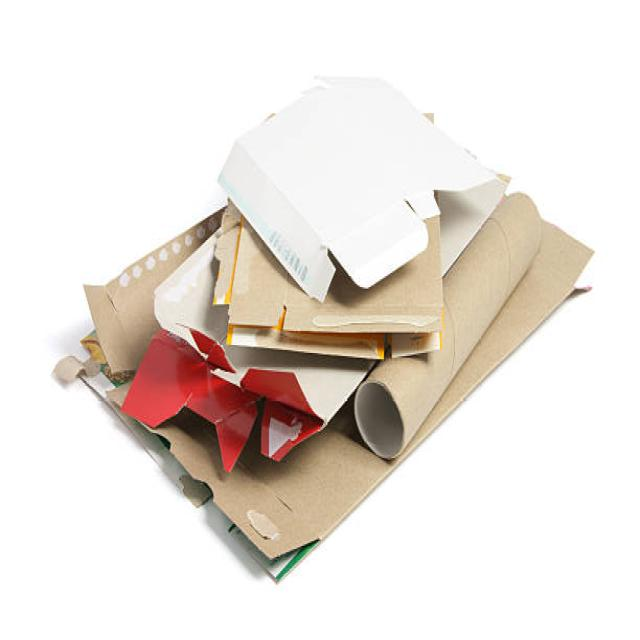cardboard: (59, 47, 600, 582)
